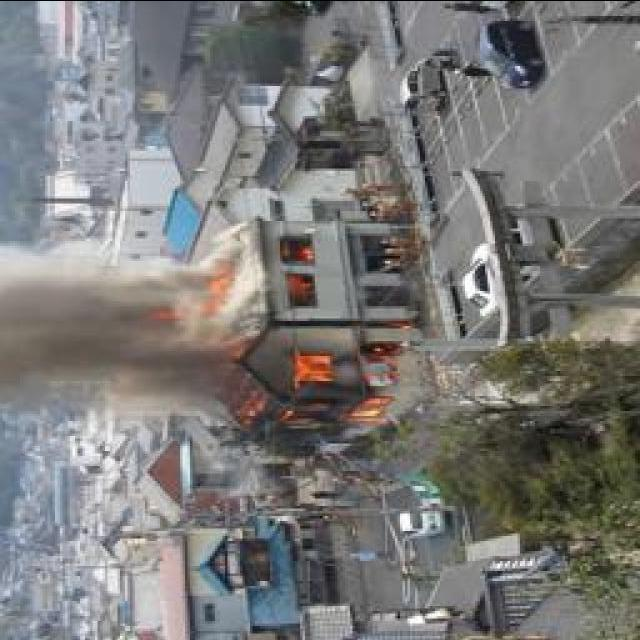Fire: (240, 342, 404, 460), (273, 230, 322, 312)
